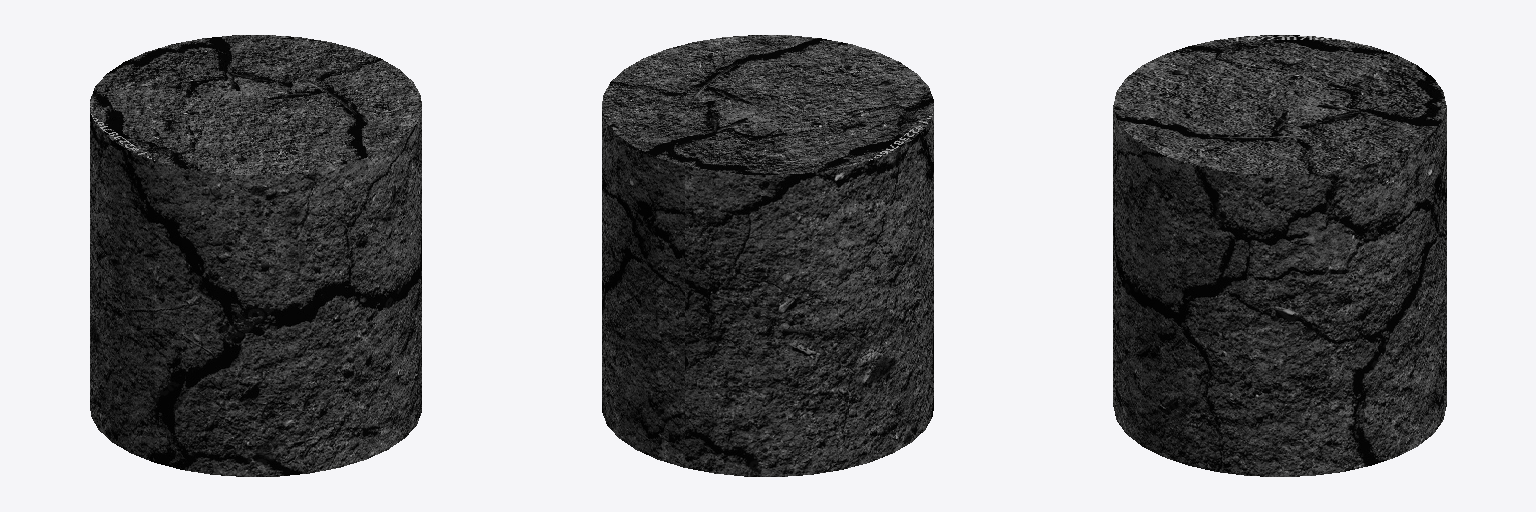
The picture shows the model from 3 angles: view 1: azimuth 30°, elevation 25°; view 2: azimuth 150°, elevation 25°; view 3: azimuth 270°, elevation 25°; orthographic projection.
Parts seen in each view (by area): view 1: Cylinder; view 2: Cylinder; view 3: Cylinder.
Boxes of the visible parts, x1,y1,x2,y2 form: Cylinder: [90, 35, 421, 476]; Cylinder: [602, 35, 933, 476]; Cylinder: [1113, 35, 1446, 476].
Bounding box in the file's own units: 2 × 2 × 2.
1 materials, 1 textured.